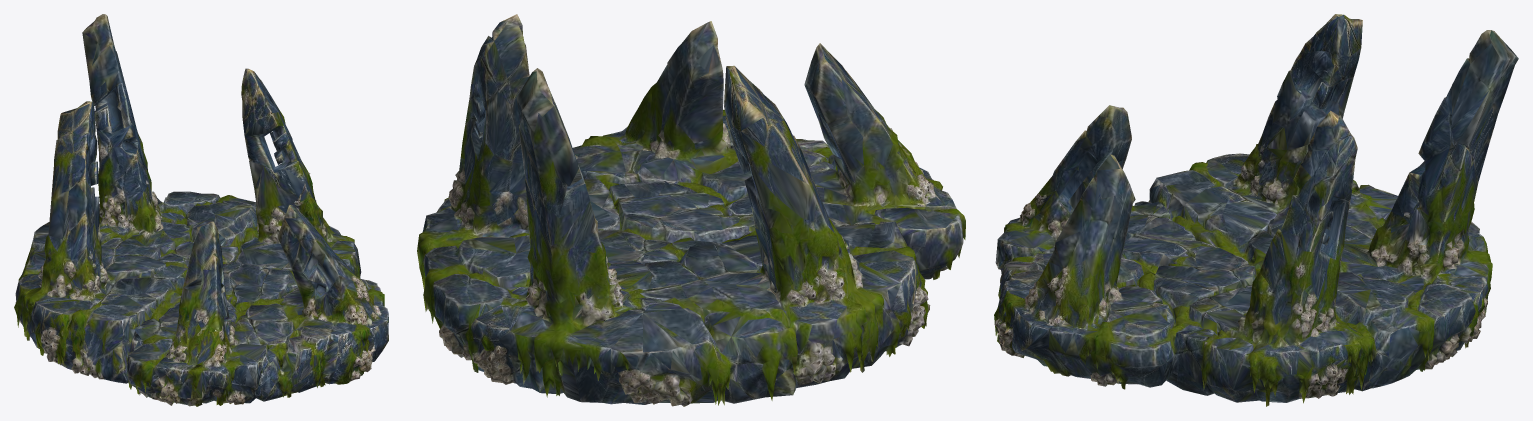
Rendered from megalithic_dolmen_ring.glb.
3 views of the same model, side by side, from view 1: azimuth 30°, elevation 25°; view 2: azimuth 150°, elevation 25°; view 3: azimuth 270°, elevation 25° (orthographic). The views are drawn at different scales.
Parts seen in each view (by area): view 1: Model; view 2: Model; view 3: Model.
Boxes of the visible parts, box(x1,y1,x2,y2) form: Model: box(14, 14, 388, 406); Model: box(417, 14, 965, 406); Model: box(994, 14, 1518, 406).
Size of the model in its own units: 41.95 by 29.16 by 48.
1 material, 1 textured.
